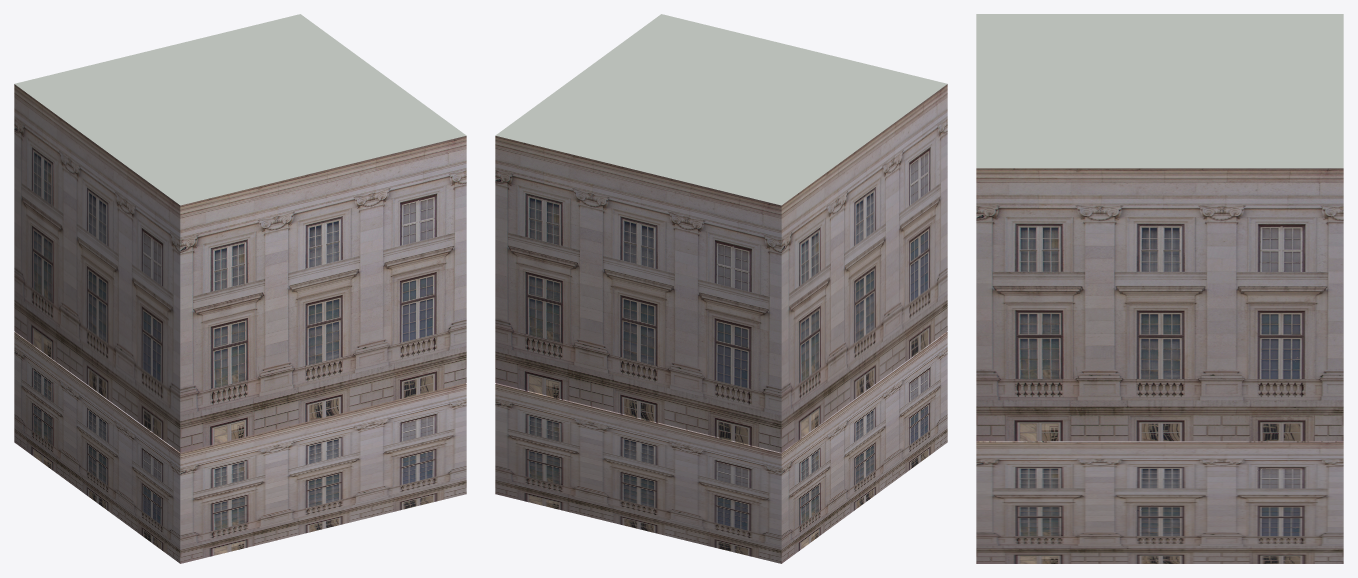
File: BagBuilding4_0.fbx
The picture shows the model from 3 angles, left to right: view 1: azimuth 30°, elevation 25°; view 2: azimuth 150°, elevation 25°; view 3: azimuth 270°, elevation 25°; orthographic projection. The views are drawn at different scales.
Visible parts, largest first — view 1: Box0, BoxA0, roof0; view 2: Box0, BoxA0, roof0; view 3: Box0, roof0, BoxA0.
Boxes of the visible parts, box(x1,y1,x2,y2) form: Box0: box(14, 84, 466, 452); BoxA0: box(14, 332, 466, 563); roof0: box(14, 14, 466, 205); Box0: box(495, 84, 947, 452); BoxA0: box(495, 332, 947, 563); roof0: box(495, 14, 947, 205); Box0: box(976, 168, 1343, 441); roof0: box(976, 14, 1343, 168); BoxA0: box(976, 441, 1343, 563).
Size of the model in its own units: 16.12 by 19.28 by 16.21.
